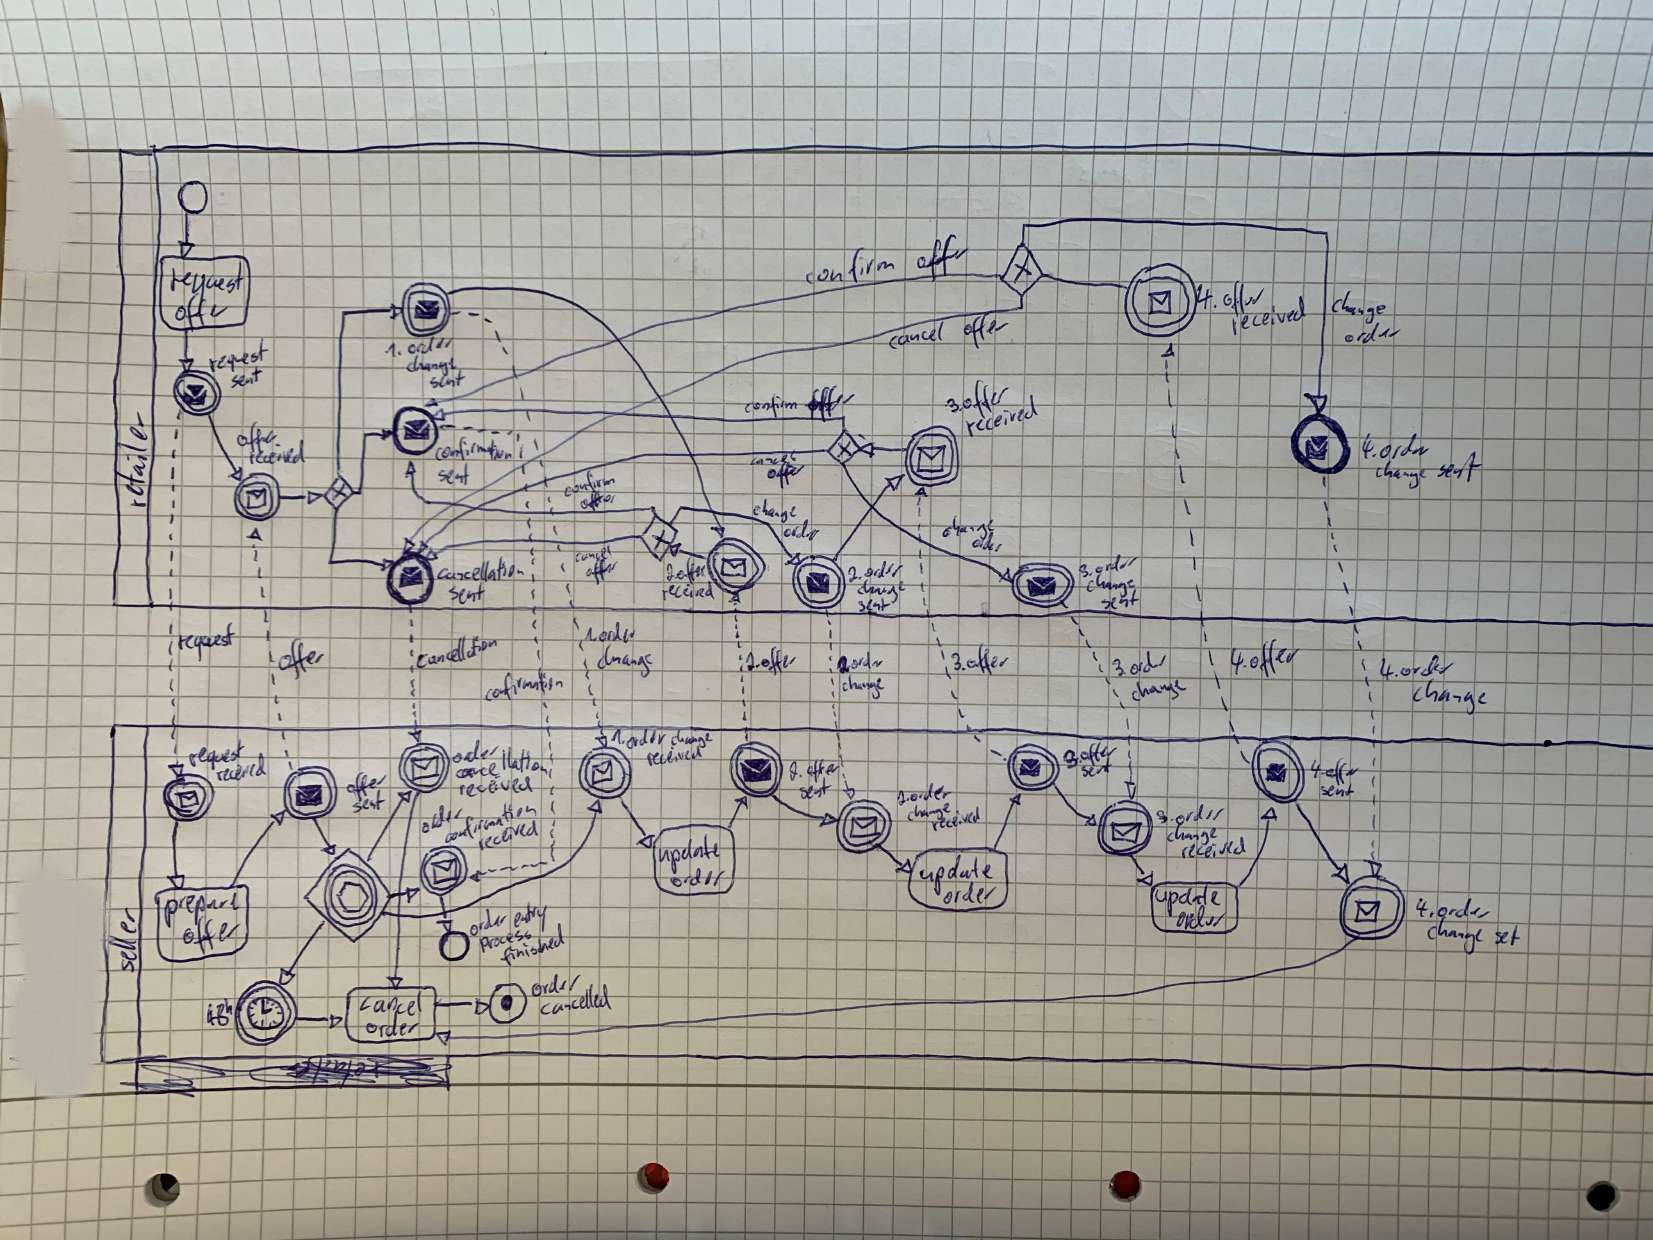1.: (380, 336, 400, 362), (604, 723, 624, 748), (577, 623, 597, 643)
2.: (742, 647, 761, 672), (783, 759, 798, 784), (891, 785, 907, 806), (836, 654, 852, 675), (844, 565, 858, 584)
2.offer: (664, 556, 709, 581)
3.: (1151, 804, 1174, 828), (1109, 654, 1127, 684), (1056, 748, 1081, 768), (951, 650, 967, 675), (1073, 557, 1092, 578)
3.offer: (946, 382, 1010, 414)
4.: (1222, 643, 1250, 679), (1192, 279, 1218, 317), (1372, 653, 1400, 685), (1353, 430, 1378, 462), (1303, 755, 1323, 780), (1411, 897, 1429, 923)
48: (202, 1000, 223, 1026)
Cancellation: (414, 630, 503, 668)
Process: (475, 923, 533, 953)
Sent: (435, 465, 469, 485)
cancel: (881, 320, 956, 354), (356, 996, 427, 1019), (567, 541, 617, 567), (744, 451, 798, 465)
cancellation: (455, 753, 546, 782), (434, 560, 524, 587)
cancelled: (535, 986, 614, 1020)
change: (1406, 679, 1490, 712), (1122, 672, 1194, 707), (1323, 290, 1389, 327), (1421, 920, 1484, 950), (1366, 456, 1428, 486), (595, 650, 657, 679), (1075, 571, 1135, 597), (748, 499, 801, 526), (901, 798, 954, 826), (834, 673, 884, 699), (399, 354, 460, 375), (851, 576, 904, 597), (937, 517, 993, 537), (1163, 826, 1217, 845), (666, 728, 715, 749)
confirm: (802, 242, 908, 290), (740, 391, 805, 417), (554, 477, 617, 492)
confirmation: (436, 804, 542, 849), (481, 669, 568, 707), (429, 442, 511, 462)
entry: (507, 901, 550, 927)
finished: (498, 925, 568, 966)
h: (218, 993, 234, 1020)
offer: (909, 234, 967, 280), (175, 916, 242, 952), (955, 309, 1010, 344), (1247, 640, 1297, 676), (275, 641, 323, 676), (805, 383, 855, 417), (171, 298, 224, 327), (341, 774, 388, 806), (1217, 279, 1264, 310), (967, 646, 1011, 679), (232, 425, 281, 453), (584, 554, 619, 581), (759, 647, 797, 671), (1320, 759, 1359, 782), (1079, 740, 1115, 763), (801, 759, 839, 780), (573, 492, 615, 511), (761, 462, 801, 481)
order: (525, 969, 585, 1002), (1432, 897, 1497, 926), (1394, 654, 1456, 683), (1378, 434, 1433, 465), (361, 1015, 419, 1042), (416, 804, 468, 834), (671, 865, 729, 890), (462, 909, 511, 938), (1170, 907, 1226, 930), (1122, 646, 1167, 675), (1171, 804, 1223, 828), (449, 741, 496, 765), (404, 333, 452, 356), (1340, 326, 1398, 344), (779, 518, 817, 544), (940, 886, 994, 904), (1092, 554, 1136, 574), (847, 650, 888, 672), (595, 623, 634, 646), (623, 729, 666, 749), (858, 561, 903, 578), (905, 785, 950, 801), (965, 537, 1000, 555)
prepare: (159, 886, 246, 923)
received: (957, 396, 1043, 440), (470, 821, 539, 854), (1231, 305, 1307, 332), (455, 775, 534, 800), (241, 443, 309, 469), (642, 742, 709, 768), (1178, 838, 1247, 862), (924, 806, 983, 834), (211, 758, 268, 785), (659, 584, 718, 602)
request: (201, 340, 270, 375), (163, 268, 240, 297), (172, 624, 238, 654), (182, 740, 246, 768)
retailer: (119, 416, 151, 509)
seller: (109, 908, 139, 974)
sent: (1432, 449, 1484, 486), (224, 365, 264, 391), (793, 774, 827, 802), (445, 585, 483, 606), (855, 595, 892, 613), (1077, 759, 1112, 778), (427, 373, 464, 389), (346, 797, 384, 811), (1317, 784, 1353, 798), (1099, 597, 1138, 610)
set: (1486, 923, 1524, 953)
update: (653, 836, 724, 870), (913, 858, 996, 884), (1151, 886, 1221, 913)
